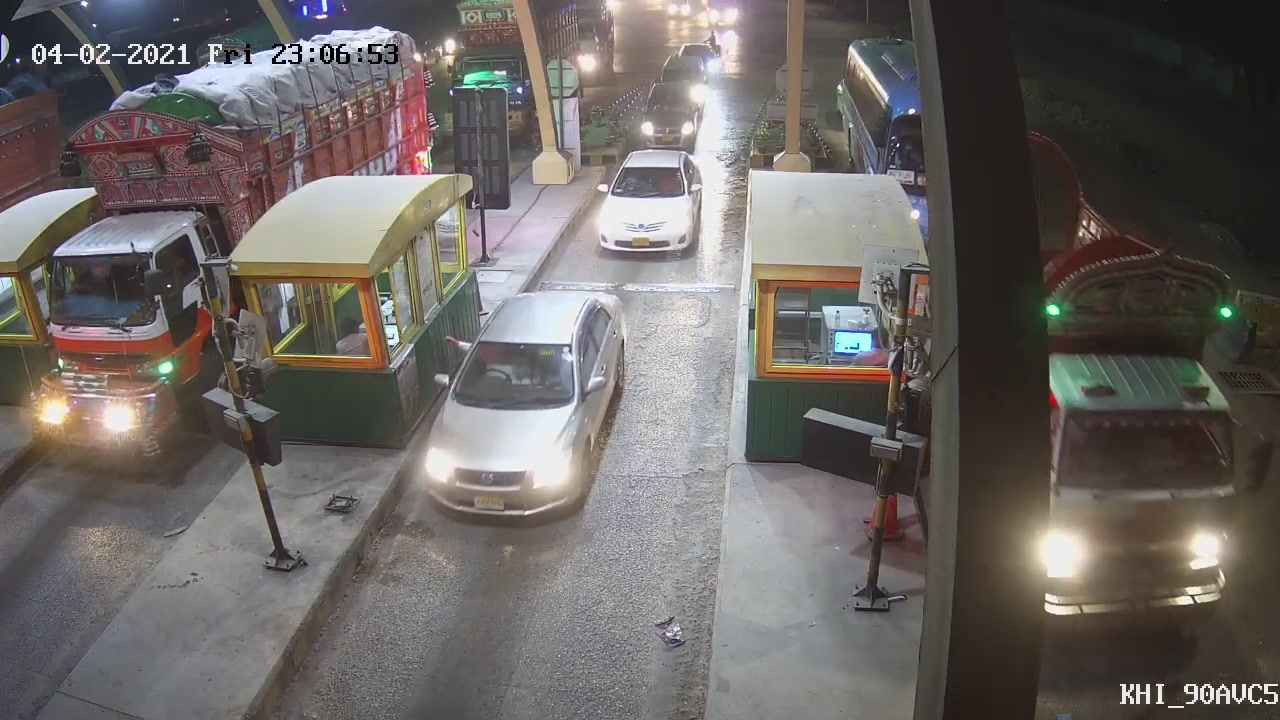F1: (421, 286, 643, 525), (591, 146, 718, 260)
